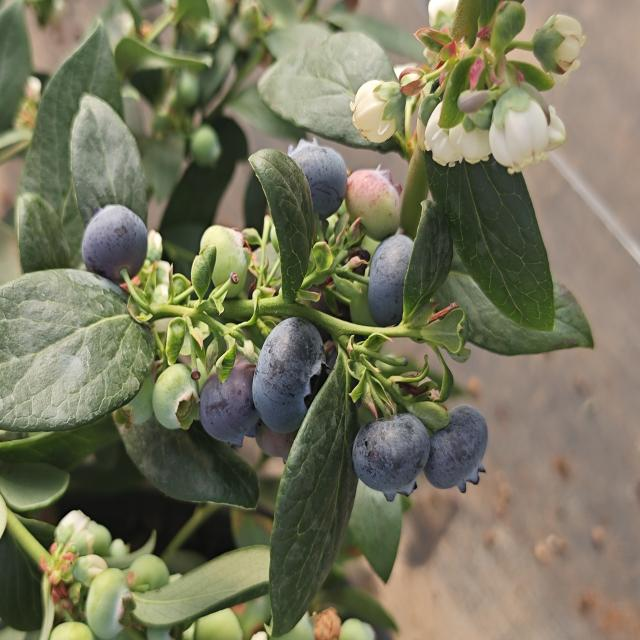ripe: (252, 314, 331, 432), (346, 411, 432, 503), (194, 355, 267, 454), (277, 135, 354, 224), (362, 231, 431, 326), (80, 197, 152, 285), (424, 402, 492, 495)
